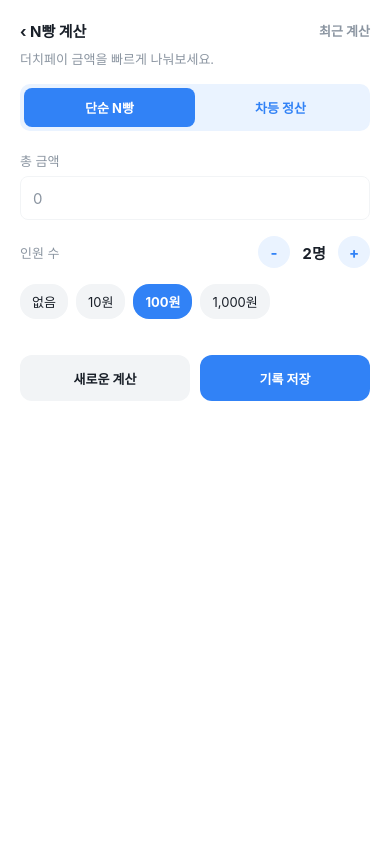
Test case: SplitBillScreen › splits the total evenly with the default headcount and round unit
The width and height of the screenshot is (390, 844).
Type "10000" into the field with test id "input-total-amount" at point(195, 198), box [20,176,370,220]
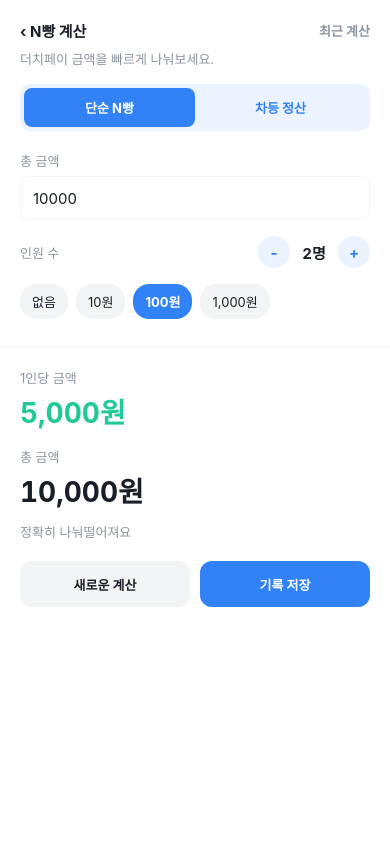
Expected: the text "5,000원" is shown, [20,396,126,430]
Expected: the text "정확히 나눠떨어져요" is shown, [20,524,131,540]
